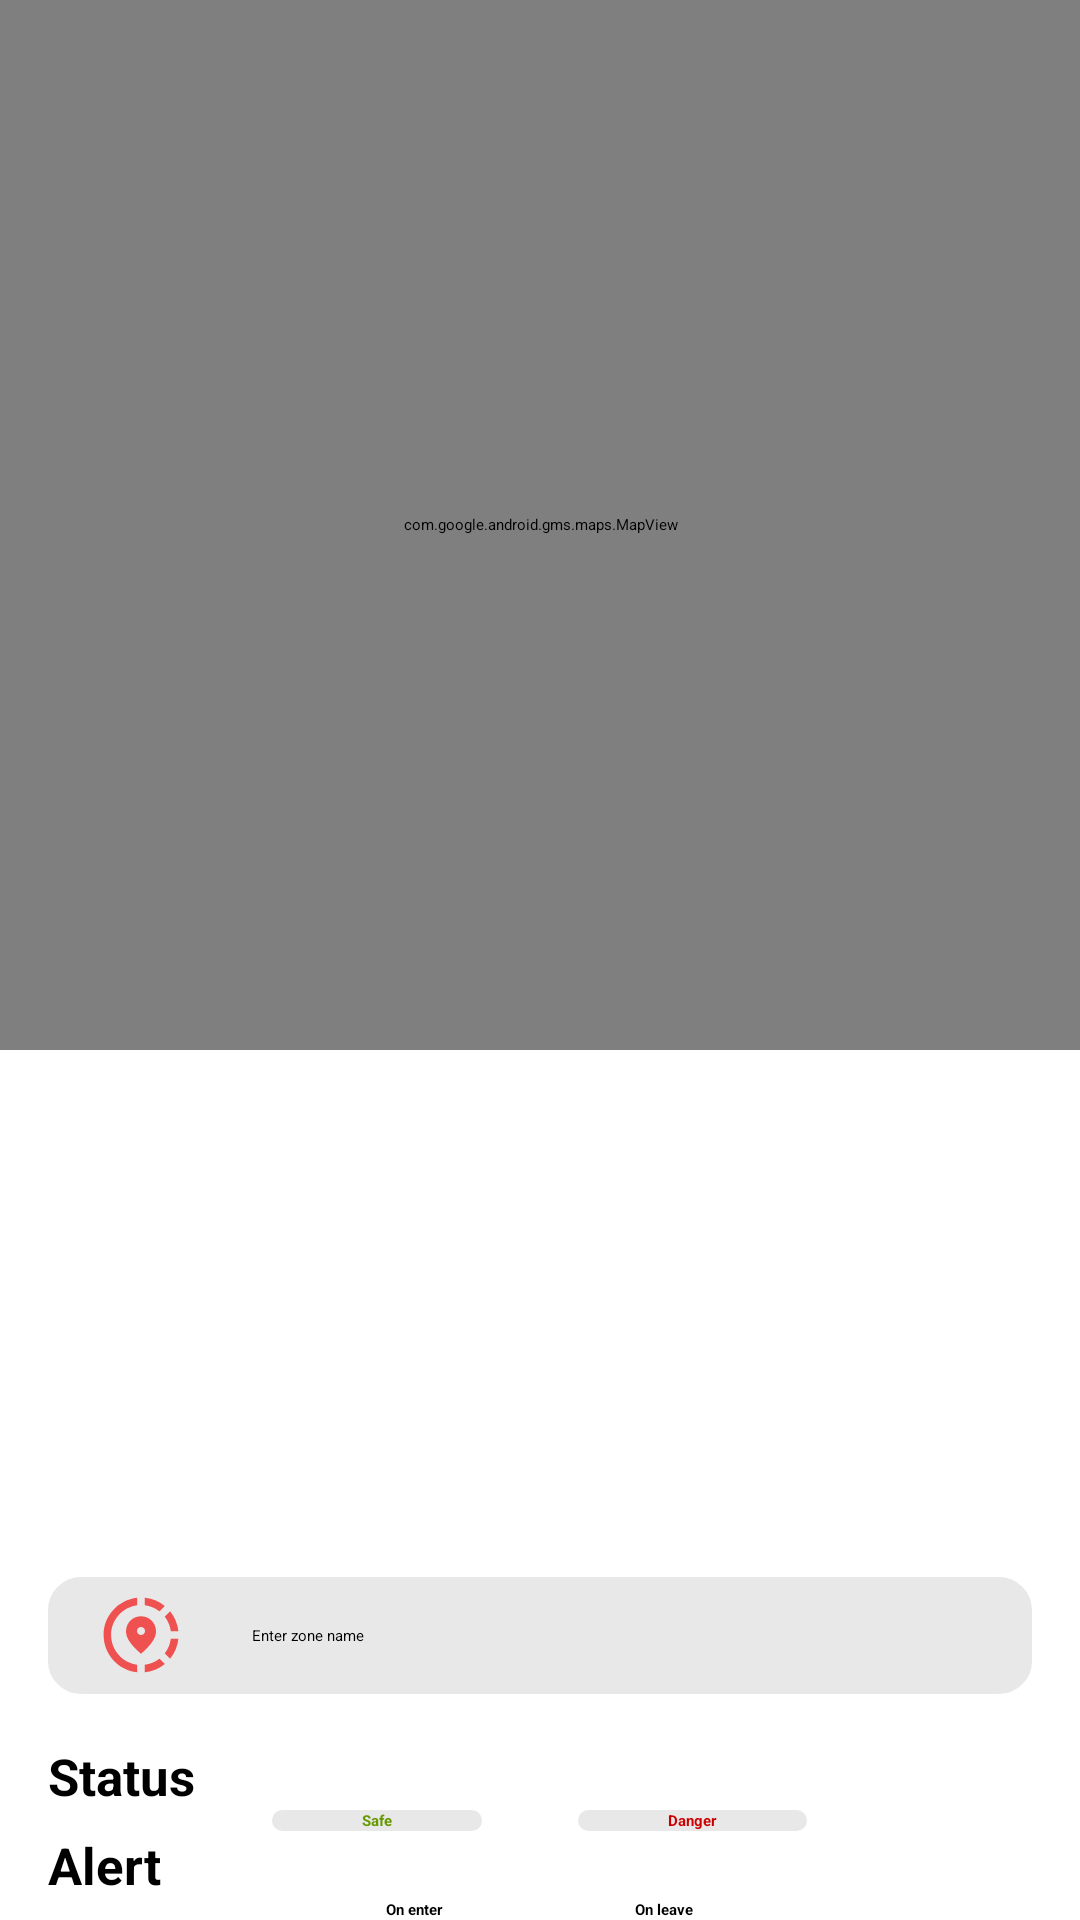

Where icons sit on this 1080w x 1920h app screen, as (x1, y1, x2, y2):
share location: (103, 1597, 179, 1673)
